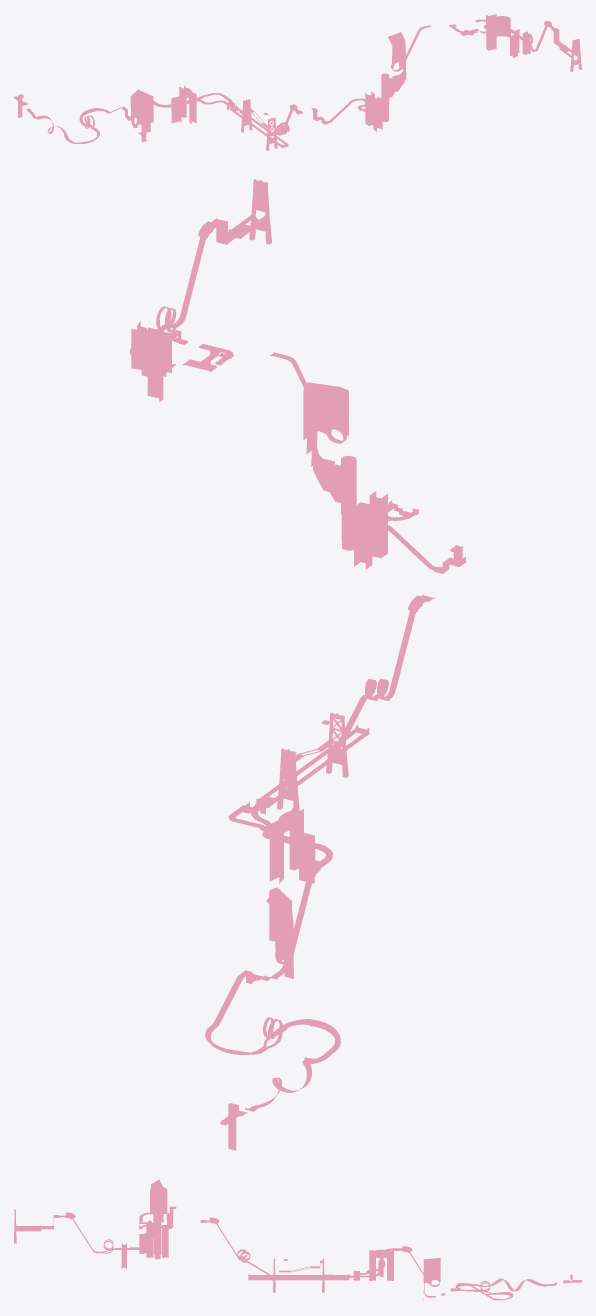
3 views of the same model, one above another, from view 1: azimuth 30°, elevation 25°; view 2: azimuth 150°, elevation 25°; view 3: azimuth 270°, elevation 25° (orthographic). The views are drawn at different scales.
Bounding box in the file's own units: 14201 × 10506 × 25030.
